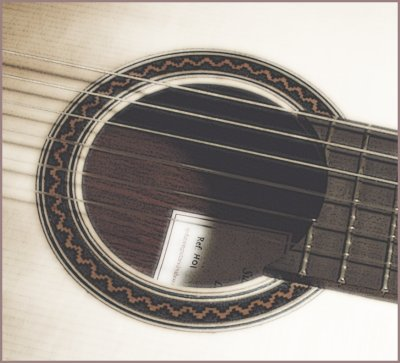guitar: (1, 1, 400, 363)
